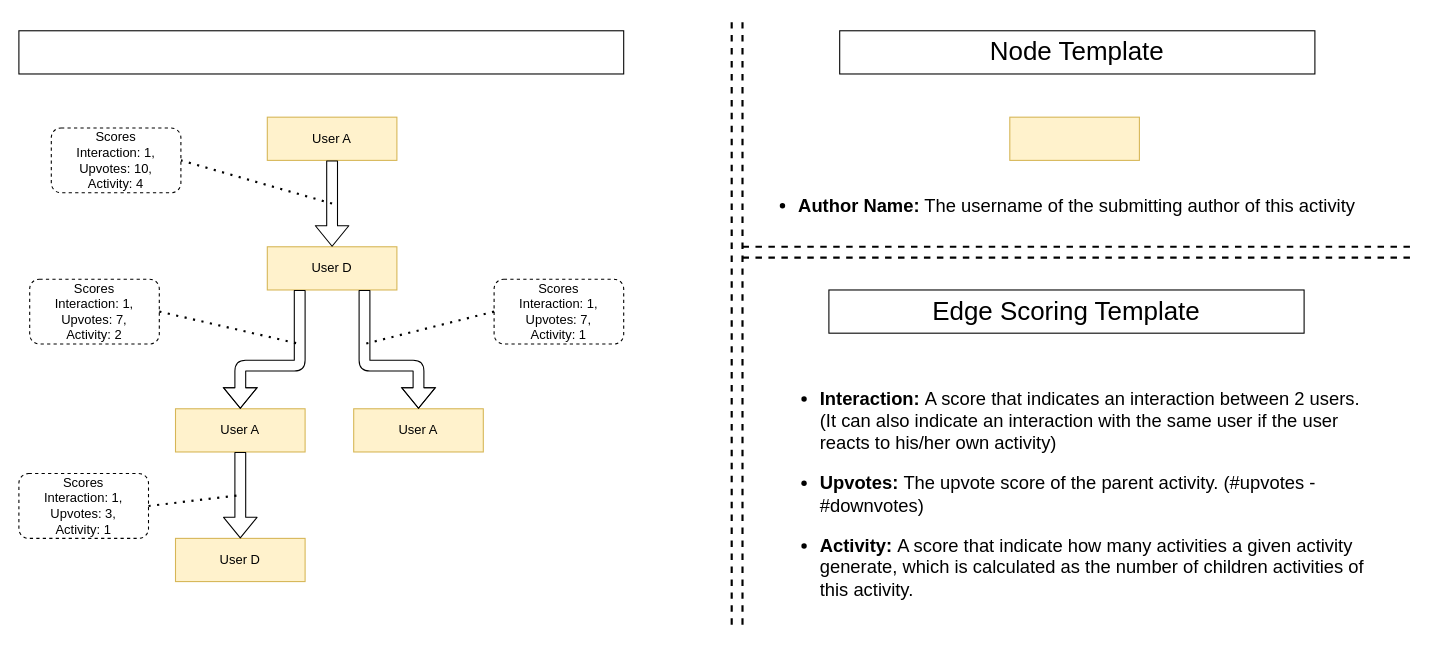
Image size: 1435x645. Some labels were removed from this diagram. The box of each missing label's shape, as (x1, y1, x2, y2) in pixels:
Activity Graph Example: (18, 30, 624, 74)
Author Name: (1009, 116, 1139, 160)
